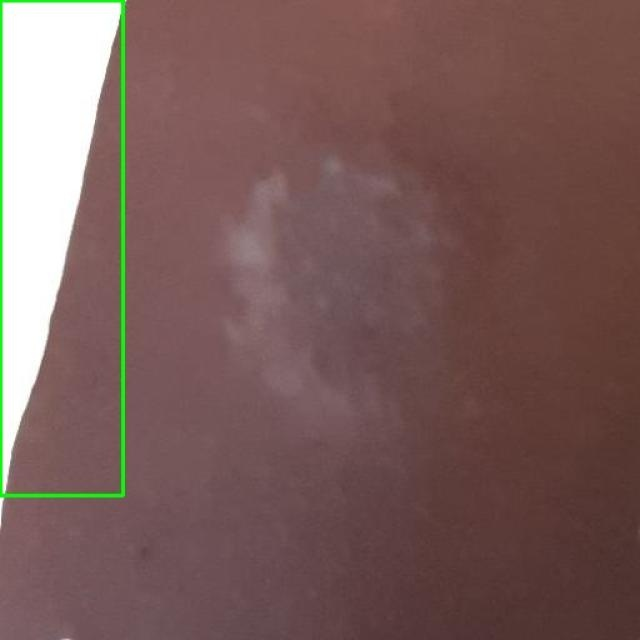Contact Dermatitis: (0, 0, 124, 496)
